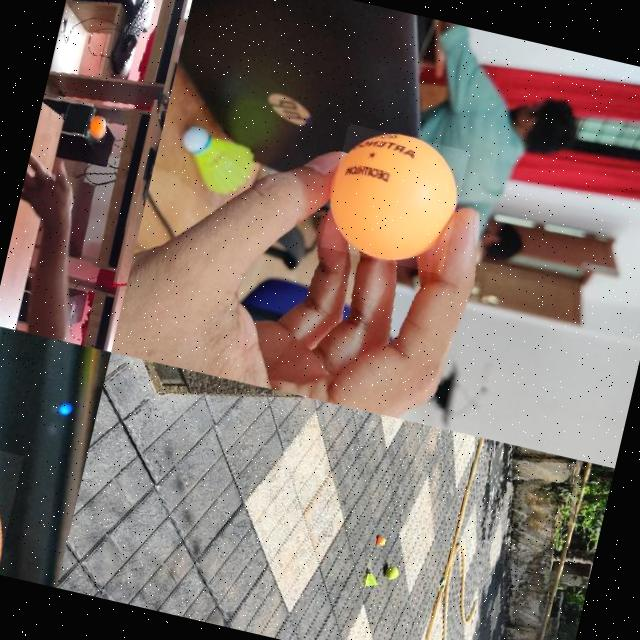ping-pong-ball: (319, 121, 470, 272), (0, 439, 24, 574), (86, 112, 110, 143), (376, 536, 386, 546)
